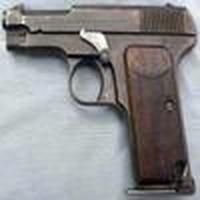gun: (1, 4, 200, 196)
